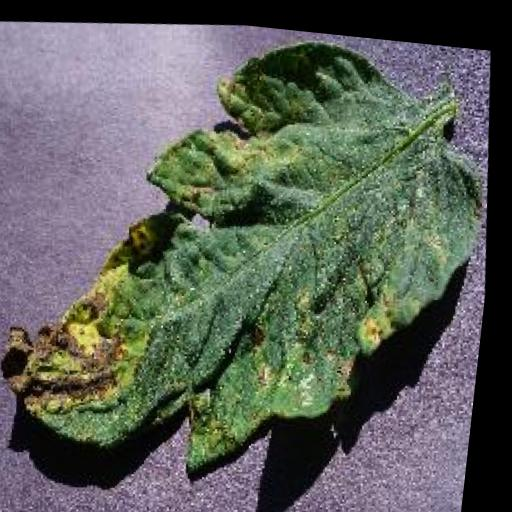Septoria: (0, 1, 512, 502)
